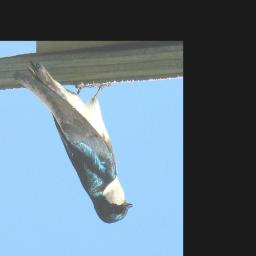Swallow: (11, 58, 134, 225)
